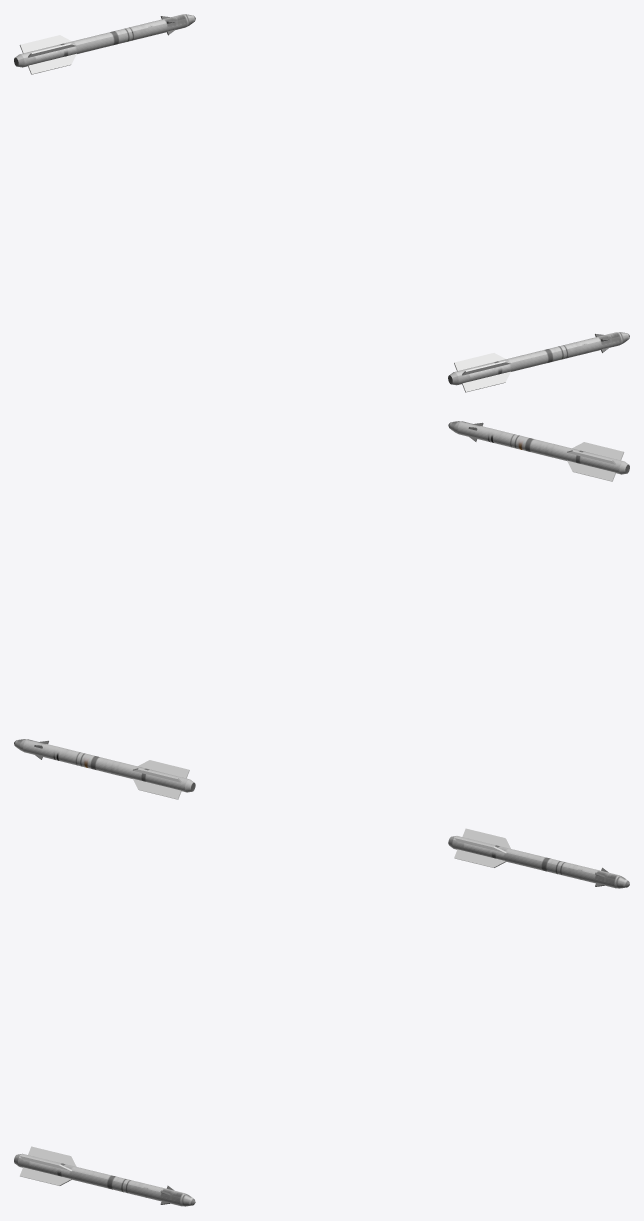
The picture shows the model from 3 angles, top to bottom: view 1: azimuth 30°, elevation 25°; view 2: azimuth 150°, elevation 25°; view 3: azimuth 330°, elevation 25°; orthographic projection.
Parts seen in each view (by area): view 1: 円柱.018, 円柱.010; view 2: 円柱.018, 円柱.010; view 3: 円柱.010, 円柱.018.
Part boxes in pixels (left/top/right/bottom): 円柱.018: left=448, top=332, right=629, bottom=392; 円柱.010: left=14, top=14, right=195, bottom=74; 円柱.018: left=448, top=421, right=629, bottom=481; 円柱.010: left=14, top=739, right=195, bottom=799; 円柱.010: left=448, top=828, right=629, bottom=888; 円柱.018: left=14, top=1146, right=195, bottom=1206.
Size of the model in its own units: 3.52 by 0.4148 by 15.19.
Materials: 2 (1 with a texture image).
